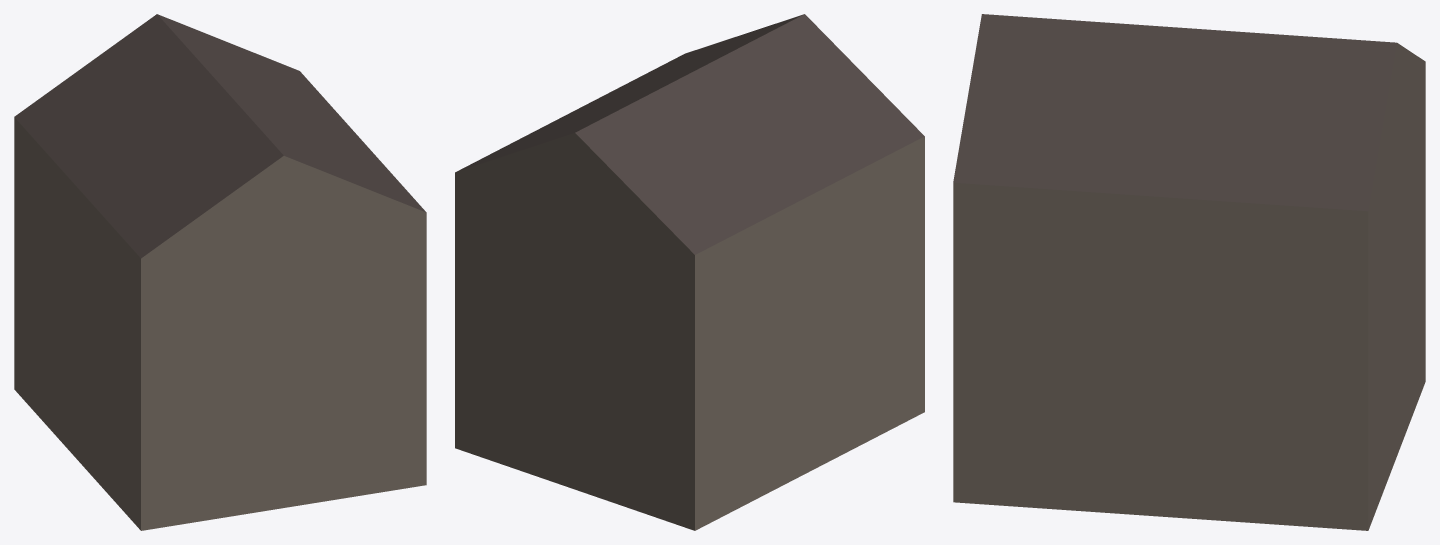
3 views of the same model, side by side, from view 1: azimuth 30°, elevation 25°; view 2: azimuth 150°, elevation 25°; view 3: azimuth 270°, elevation 25° (orthographic). The views are drawn at different scales.
Parts seen in each view (by area): view 1: HP-w859424133; view 2: HP-w859424133; view 3: HP-w859424133.
Boxes of the visible parts, <box> form: HP-w859424133: <box>14,14,426,530</box>; HP-w859424133: <box>455,14,924,530</box>; HP-w859424133: <box>953,14,1425,530</box>.
Size of the model in its own units: 7.17 by 7.76 by 8.04.
